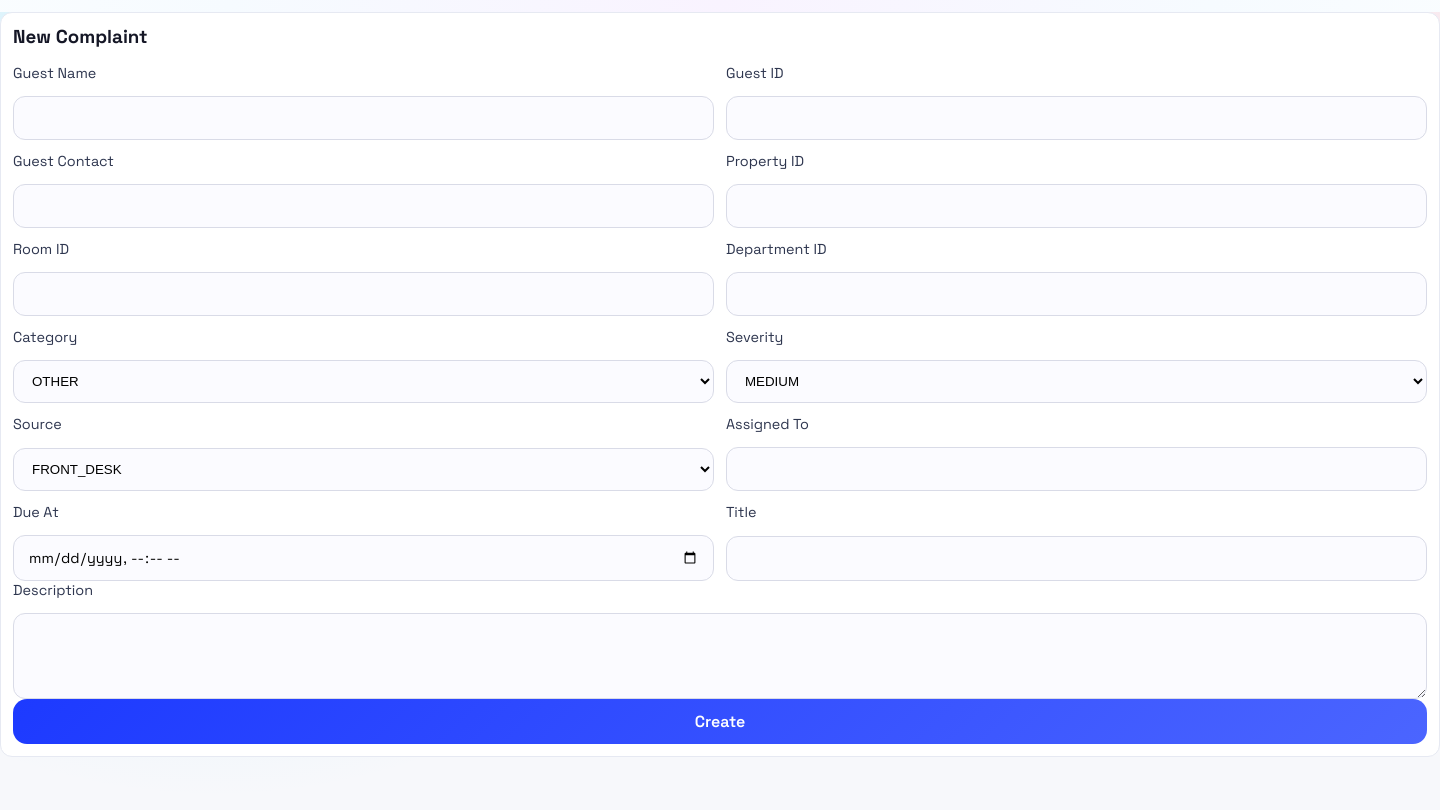
Test: ComplaintForm › shows required validation errors
This screenshot has width=1440, height=810.
Click the button "Create". click: point(720, 722)
box: [13,699,1427,744]
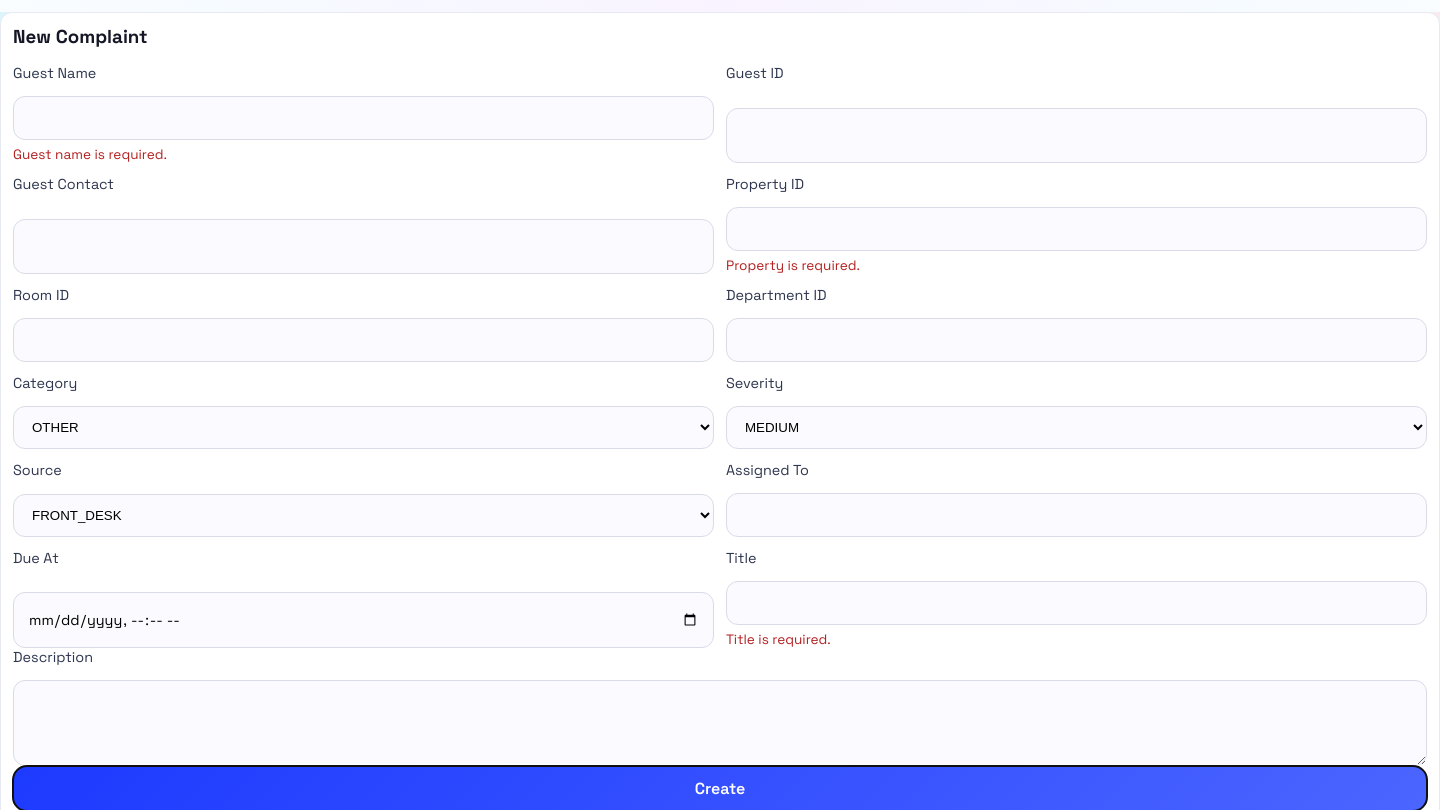
Expected: the text "Guest name is required." is shown, [13,146,167,163]
Expected: the text "Property is required." is shown, [726,257,860,274]
Expected: the text "Title is required." is shown, [726,631,831,648]
